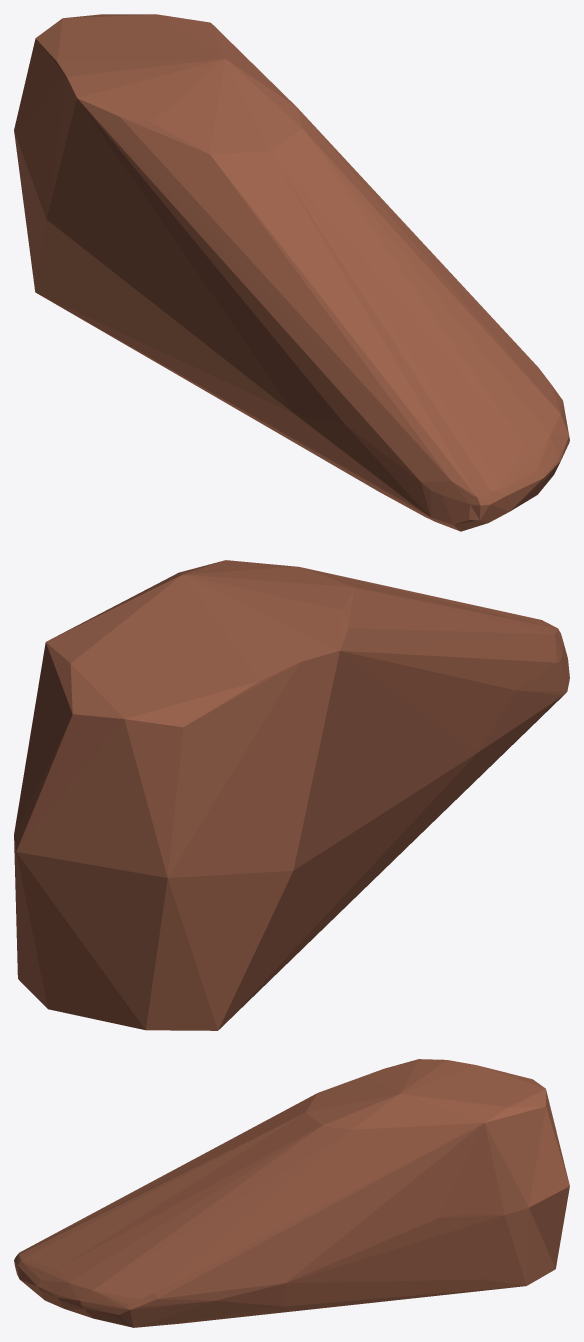
Rendered from left_foot.dae.
3 views of the same model, one above another, from view 1: azimuth 30°, elevation 25°; view 2: azimuth 150°, elevation 25°; view 3: azimuth 270°, elevation 25° (orthographic). The views are drawn at different scales.
Visible parts, largest first — view 1: Foot; view 2: Foot; view 3: Foot.
Part boxes in pixels (left/top/right/bottom): Foot: left=14, top=14, right=569, bottom=531; Foot: left=14, top=560, right=569, bottom=1030; Foot: left=14, top=1059, right=569, bottom=1327.
Size of the model in its own units: 0.656 by 1.61 by 0.623.
